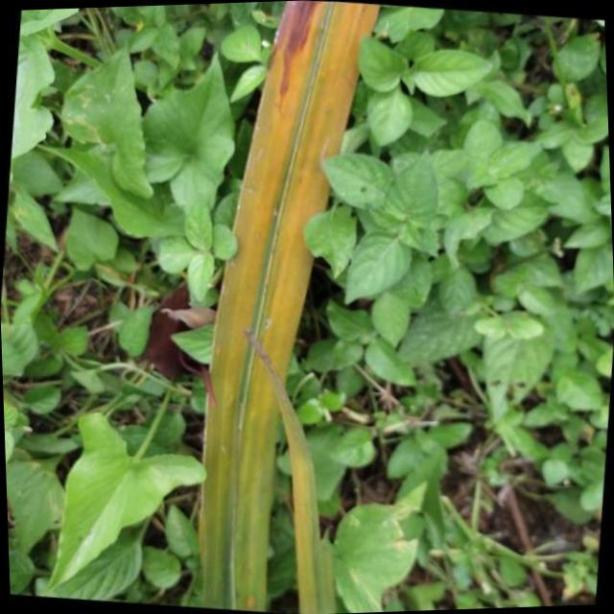Megnesium: (198, 0, 379, 614)
